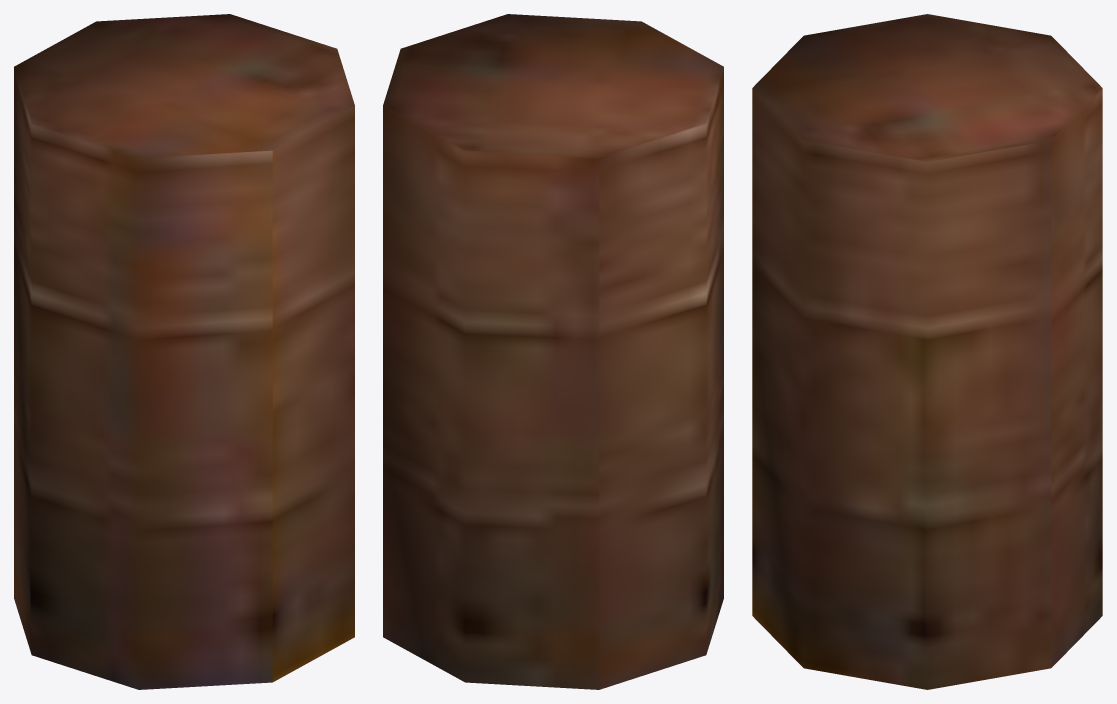
The model's file is barrel_rusty.glb.
3 renders of one model, left to right at view 1: azimuth 30°, elevation 25°; view 2: azimuth 150°, elevation 25°; view 3: azimuth 270°, elevation 25°, orthographic.
Visible parts, largest first — view 1: barrel_rusty; view 2: barrel_rusty; view 3: barrel_rusty.
Boxes of the visible parts, <box> form: barrel_rusty: <box>14,14,354,689</box>; barrel_rusty: <box>383,14,723,689</box>; barrel_rusty: <box>752,14,1102,689</box>.
Bounding box in the file's own units: 0.48 × 0.7983 × 0.48.
Materials: 1 (1 with a texture image).
